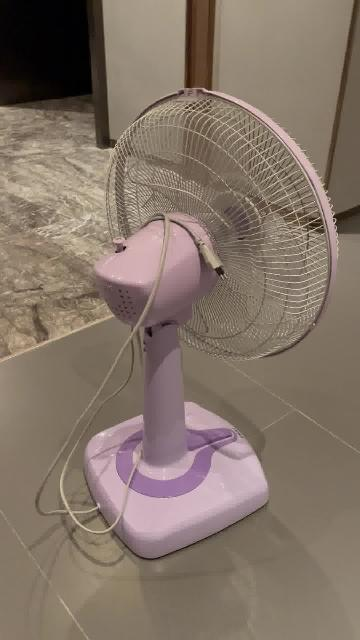Fan: (83, 88, 338, 564)
